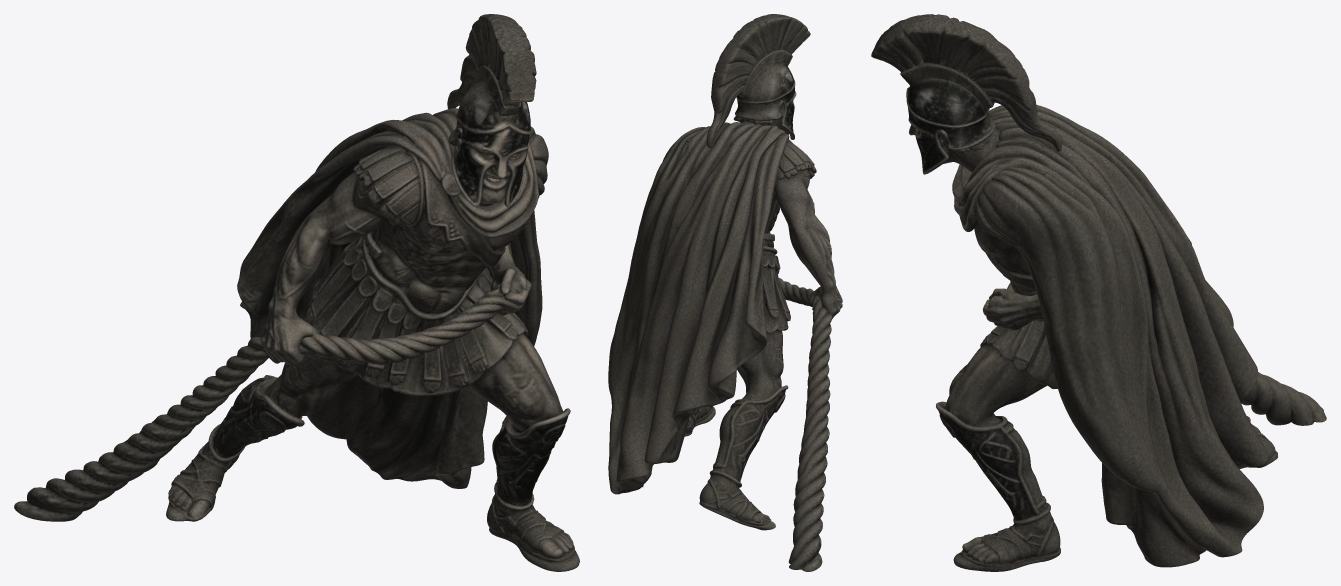
File: pack-leader.glb
The picture shows the model from 3 angles, left to right: view 1: azimuth 30°, elevation 25°; view 2: azimuth 150°, elevation 25°; view 3: azimuth 270°, elevation 25°; orthographic projection. The views are drawn at different scales.
Bounding box in the file's own units: 1.4 × 1.9 × 1.53.
Materials: 1 (1 with a texture image).
